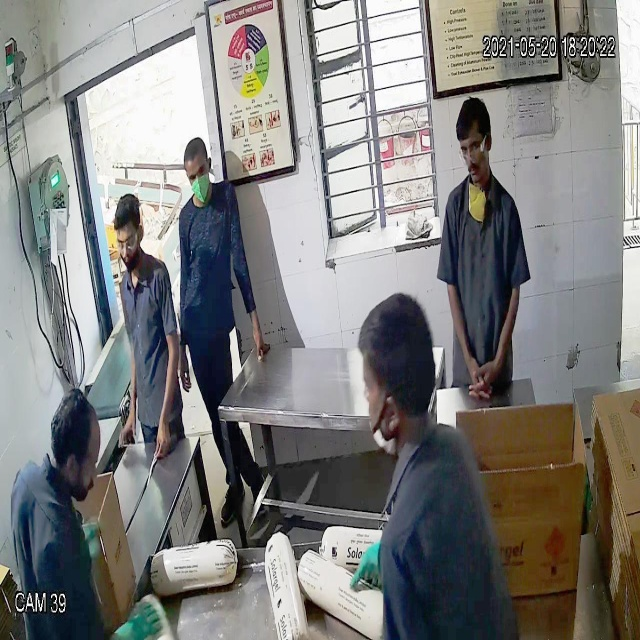Gafas: (454, 142, 488, 164), (114, 232, 140, 253)
Sin_gafas: (183, 164, 215, 184)
